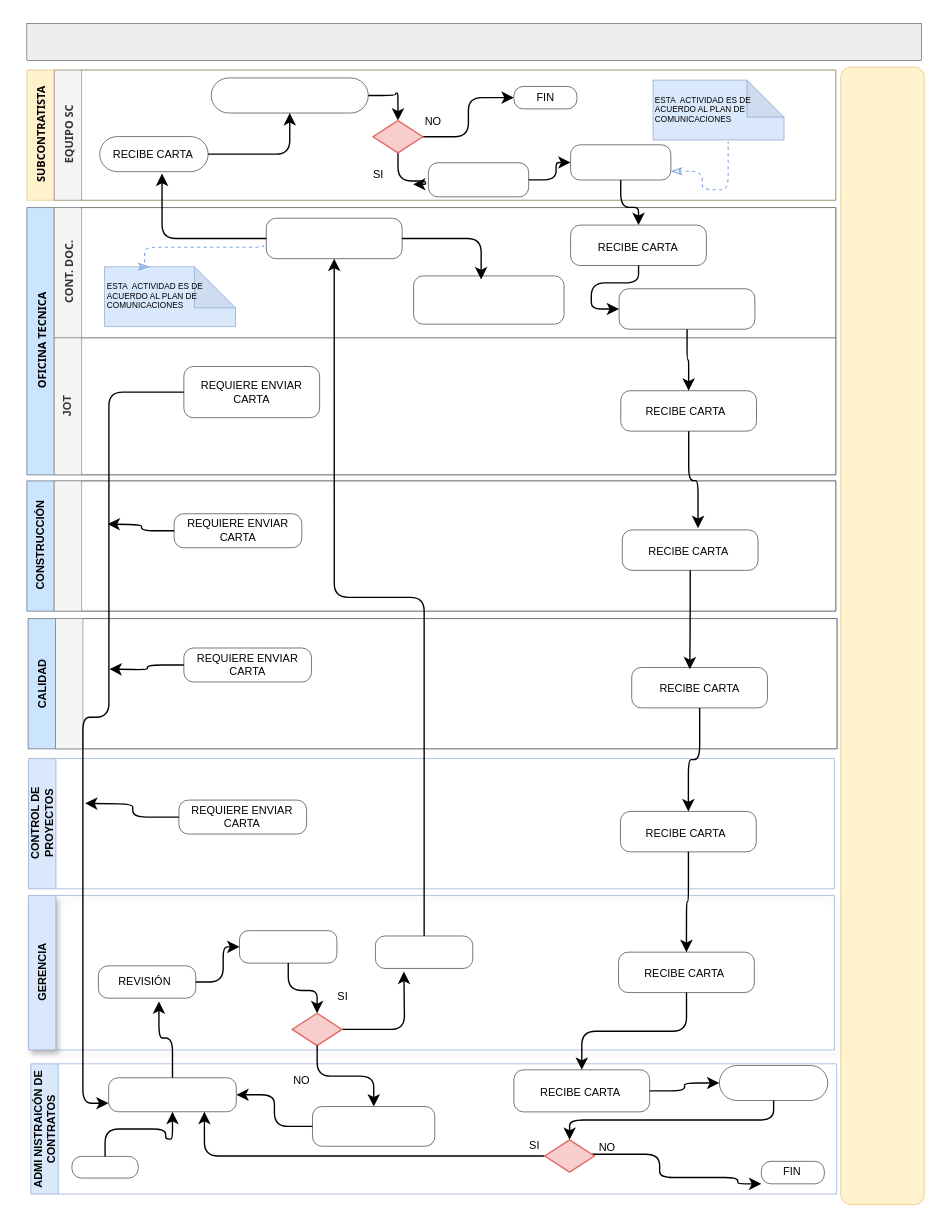
Image size: 949x1229. Some labels were removed from this diagram. The centre of each missing label's shape, as x and y in pixels:
"ALMACENA CARTA EN EL SERVIDOR Y ACTUALIZA LOG DE CARTAS" belongs at (x=488, y=299).
"APROBACIÓN" belongs at (x=287, y=946).
"CORREGIR CARTA" belongs at (x=373, y=1126).
"ENVIA RESPUESTA" belongs at (x=620, y=162).
"FIRMA" belongs at (x=423, y=951).
"FLUJOGRAMA: CARTAS ENVIADAS Y RECIBIDAS DE SUBCONTRATISTA" belongs at (x=473, y=41).
"IMPLEMENTAR METODOLOGIAS COLOBORATVIVAS" belongs at (x=882, y=635).
"INFORMA A TODAS LAS AREAS DEL PROYECTO" belongs at (x=686, y=308).
"INICIO" belongs at (x=104, y=1166).
"NECESITA RESPUESTA" belongs at (x=772, y=1082).
"REDACTA RESPUESTA" belongs at (x=477, y=179).
"REDACTAR CARTA" belongs at (x=172, y=1094).
"REGISTRO Y ENVIO DE CARTA" belongs at (x=333, y=237).
"VERIFICA SI NECESITA RESPUESTA" belongs at (x=289, y=95).
